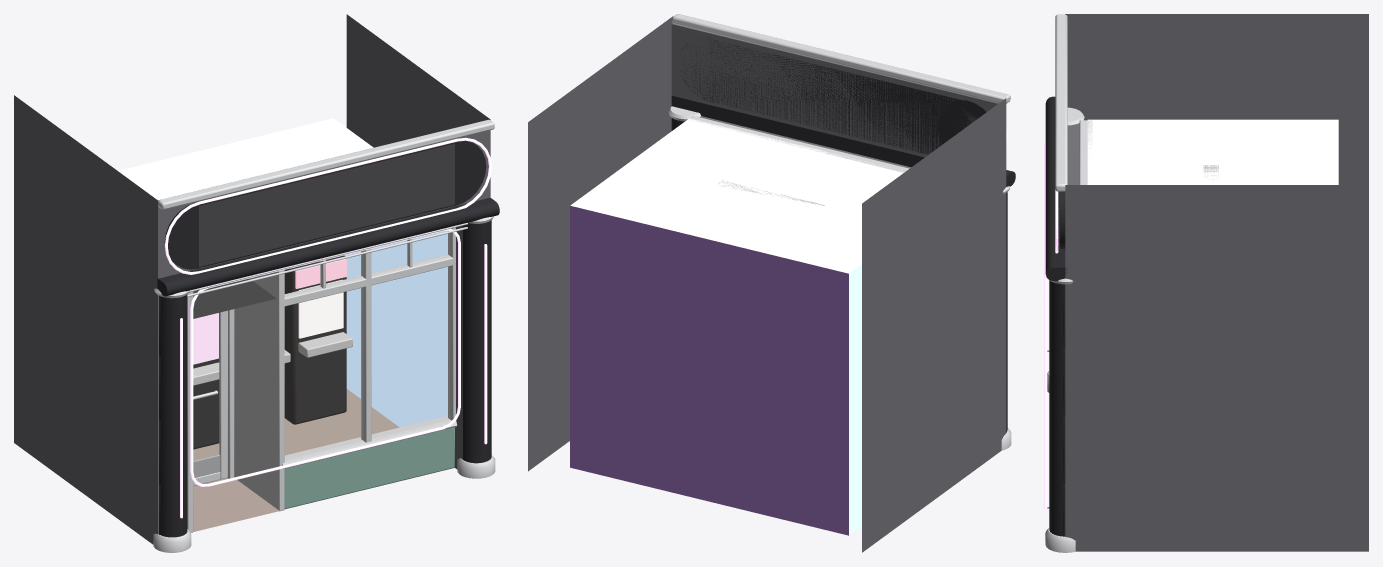
Rendered from retro_shop_lit_4a.glb.
3 views of the same model, side by side, from view 1: azimuth 30°, elevation 25°; view 2: azimuth 150°, elevation 25°; view 3: azimuth 270°, elevation 25° (orthographic). The views are drawn at different scales.
Parts seen in each view (by area): view 1: retro_shop_lit_4a; view 2: retro_shop_lit_4a; view 3: retro_shop_lit_4a.
Part boxes in pixels (x1,y1,x2,y2): retro_shop_lit_4a: (14,14,499,552); retro_shop_lit_4a: (528,14,1015,552); retro_shop_lit_4a: (1044,14,1368,552).
Size of the model in its own units: 4.06 by 4 by 3.21.
